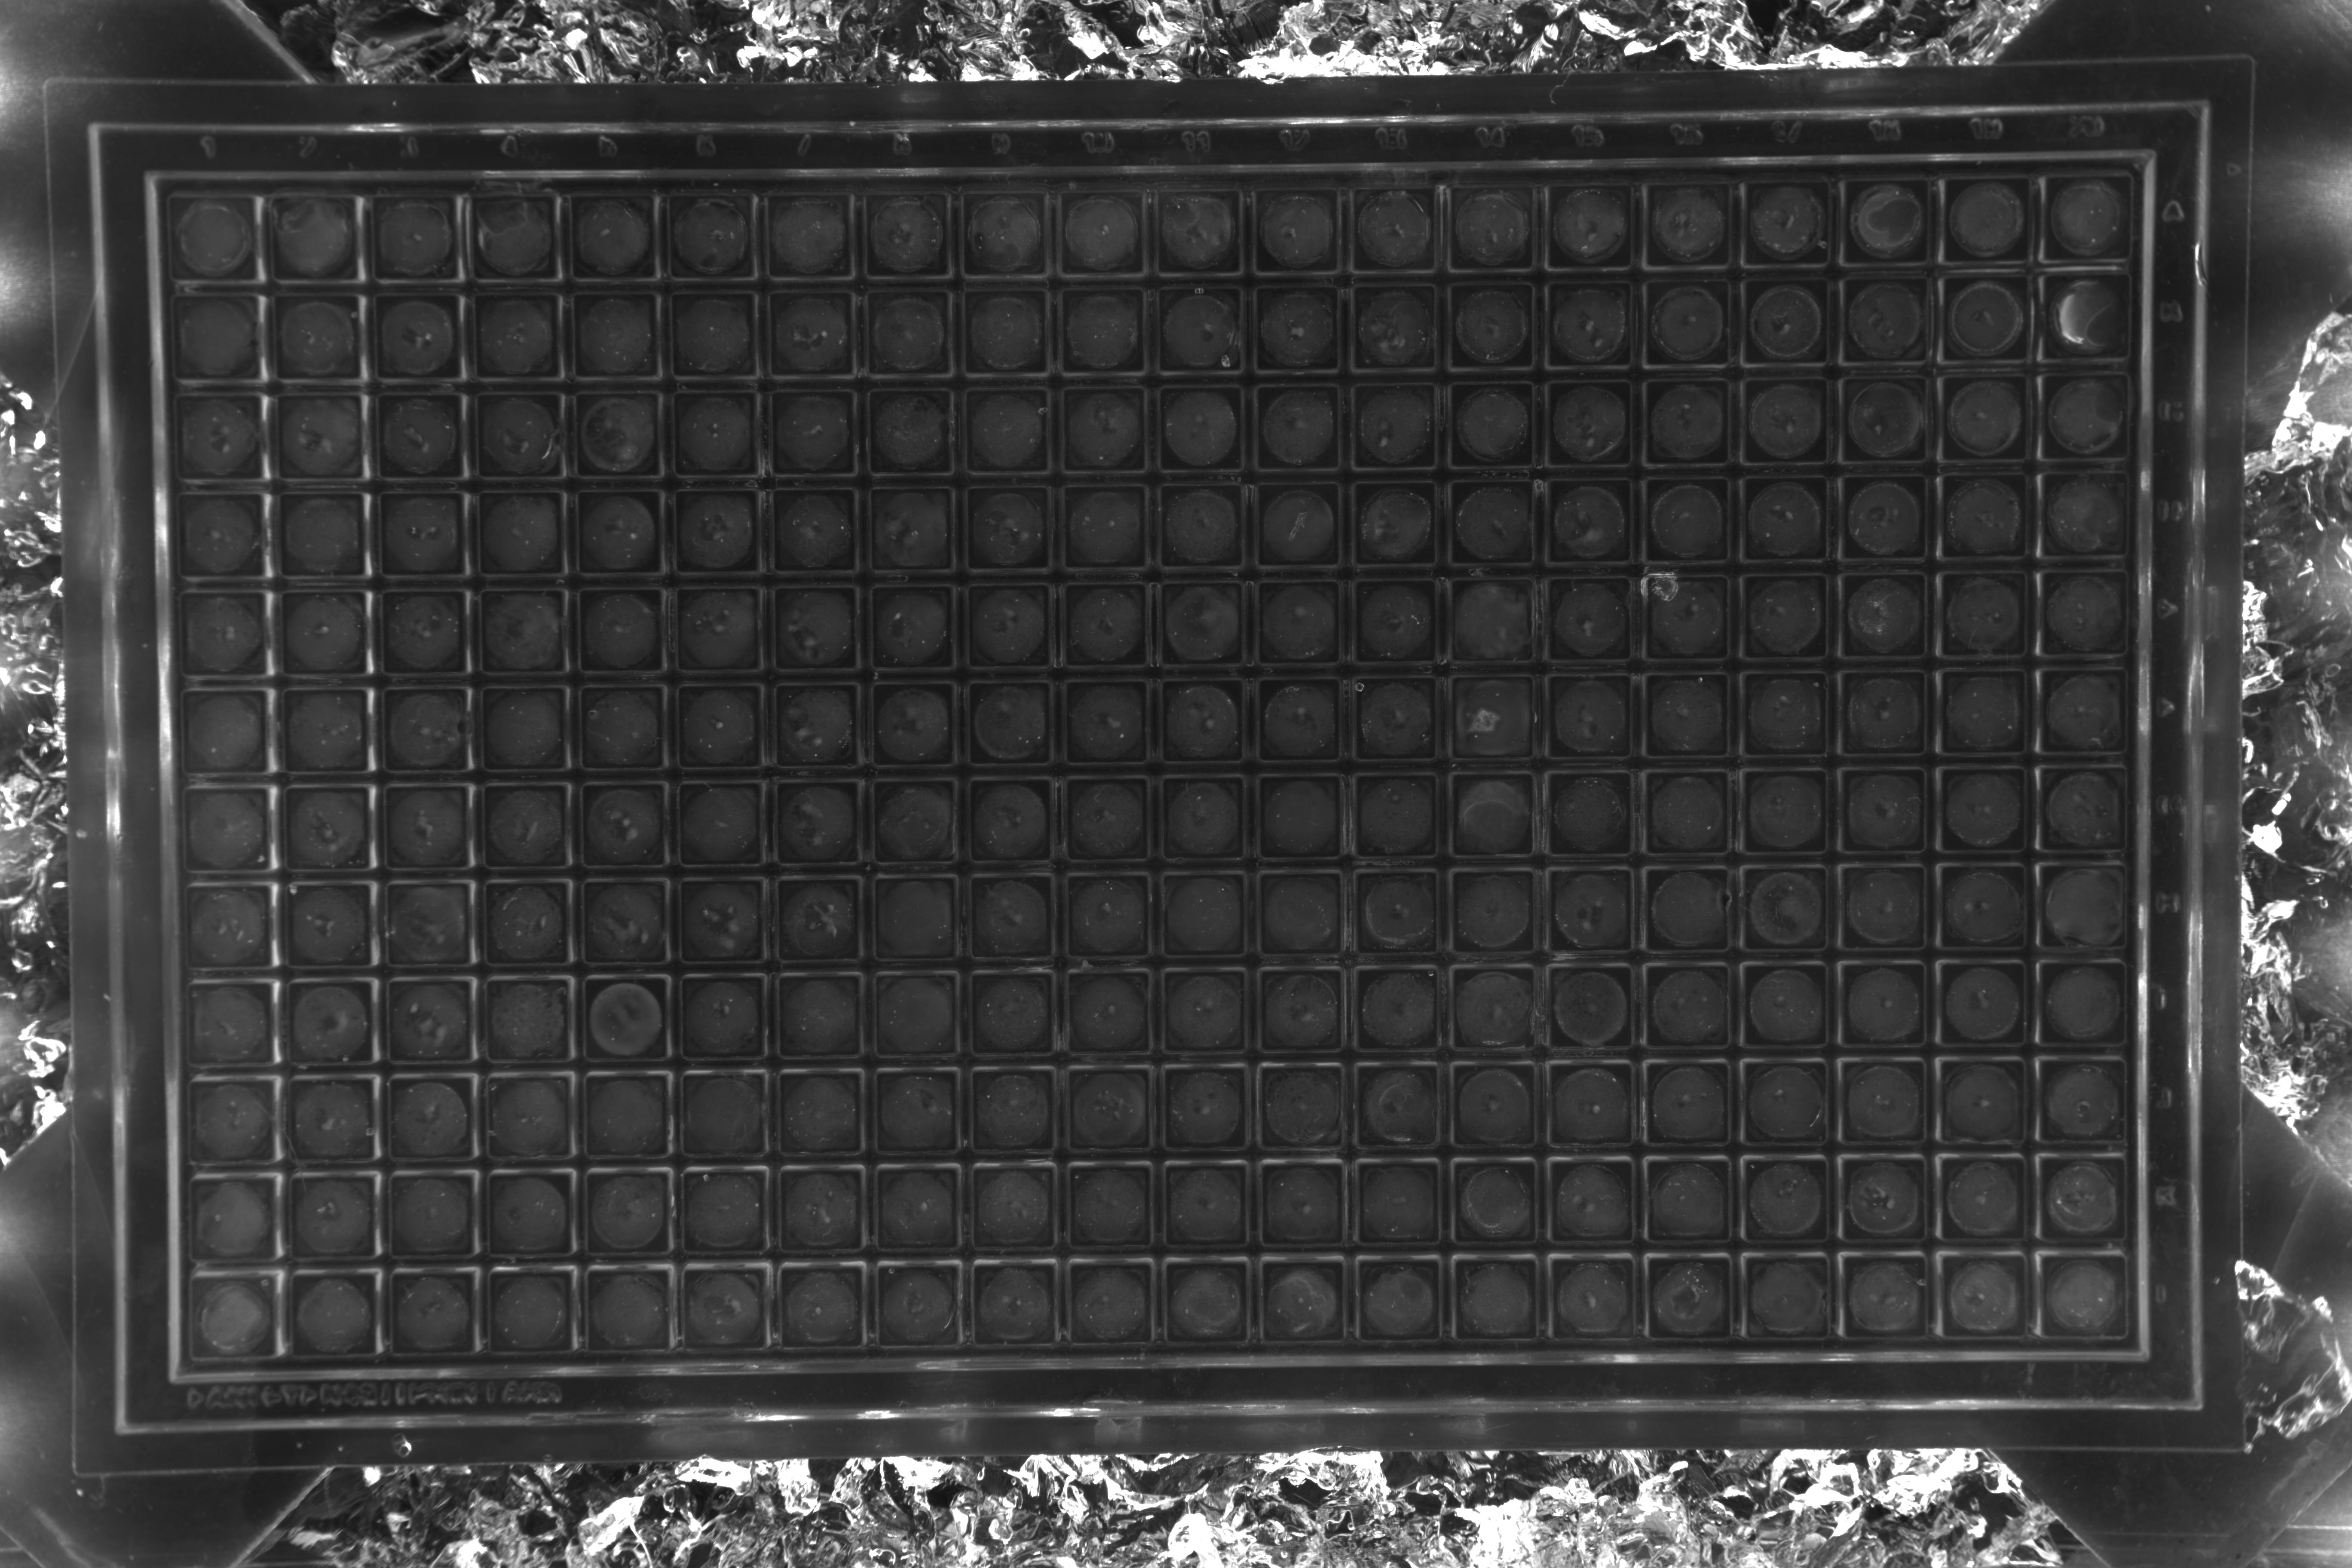WM_well: (1862, 429, 1951, 516), (191, 138, 278, 226), (303, 926, 390, 1013), (595, 730, 682, 817), (595, 1214, 682, 1302), (1080, 824, 1167, 912), (1080, 1211, 1167, 1298), (1176, 726, 1263, 814), (1272, 920, 1360, 1008), (1274, 630, 1361, 717), (1370, 726, 1458, 814), (1370, 434, 1458, 521), (1468, 434, 1556, 521), (1468, 334, 1556, 422), (1563, 1017, 1650, 1104), (1564, 822, 1652, 910), (1759, 1115, 1846, 1202), (1764, 430, 1851, 518), (1766, 133, 1853, 220), (1858, 1017, 1946, 1104), (1860, 724, 1948, 812), (1965, 129, 2053, 217), (2056, 1017, 2144, 1104), (2058, 821, 2145, 908)
